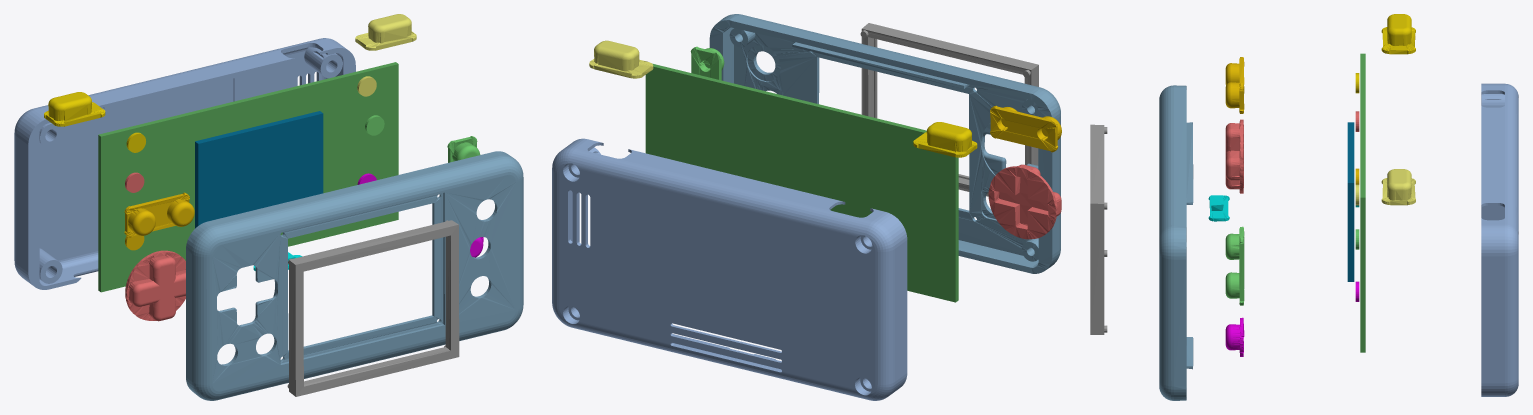
Rendered from assembly_exploded.glb.
3 renders of one model, left to right at view 1: azimuth 30°, elevation 25°; view 2: azimuth 150°, elevation 25°; view 3: azimuth 270°, elevation 25°, orthographic. The views are drawn at different scales.
Visible parts, largest first — view 1: top_cover, back_cover, pcb_base, lcd, frame, d_Pad, start_select, R, L, A_B; view 2: back_cover, pcb_base, top_cover, frame, d_Pad, start_select, R, L, A_B; view 3: back_cover, top_cover, frame, pcb_base, d_Pad, lcd, L, A_B, R, start_select, menu, power.
Boxes of the visible parts, left/top/right/bottom form: top_cover: left=186, top=151, right=523, bottom=400; back_cover: left=14, top=38, right=355, bottom=289; pcb_base: left=98, top=62, right=398, bottom=292; lcd: left=195, top=111, right=323, bottom=228; frame: left=287, top=220, right=459, bottom=396; d_Pad: left=125, top=250, right=185, bottom=321; start_select: left=124, top=192, right=194, bottom=237; R: left=355, top=14, right=416, bottom=50; L: left=44, top=92, right=105, bottom=126; A_B: left=447, top=136, right=480, bottom=162; back_cover: left=552, top=138, right=907, bottom=400; pcb_base: left=645, top=63, right=958, bottom=302; top_cover: left=709, top=14, right=1060, bottom=273; frame: left=860, top=23, right=1038, bottom=196; d_Pad: left=988, top=164, right=1061, bottom=239; start_select: left=990, top=105, right=1061, bottom=152; R: left=589, top=40, right=653, bottom=78; L: left=913, top=122, right=977, bottom=157; A_B: left=690, top=46, right=724, bottom=80; back_cover: left=1481, top=83, right=1518, bottom=396; top_cover: left=1159, top=85, right=1193, bottom=400; frame: left=1090, top=124, right=1107, bottom=334; pcb_base: left=1360, top=53, right=1365, bottom=352; d_Pad: left=1225, top=119, right=1243, bottom=193; lcd: left=1347, top=122, right=1354, bottom=281; L: left=1381, top=14, right=1415, bottom=54; A_B: left=1225, top=226, right=1244, bottom=305; R: left=1381, top=169, right=1415, bottom=205; start_select: left=1225, top=57, right=1244, bottom=113; menu: left=1225, top=317, right=1244, bottom=356; power: left=1208, top=195, right=1229, bottom=221.
Size of the model in its own units: 123 by 72.75 by 126.
